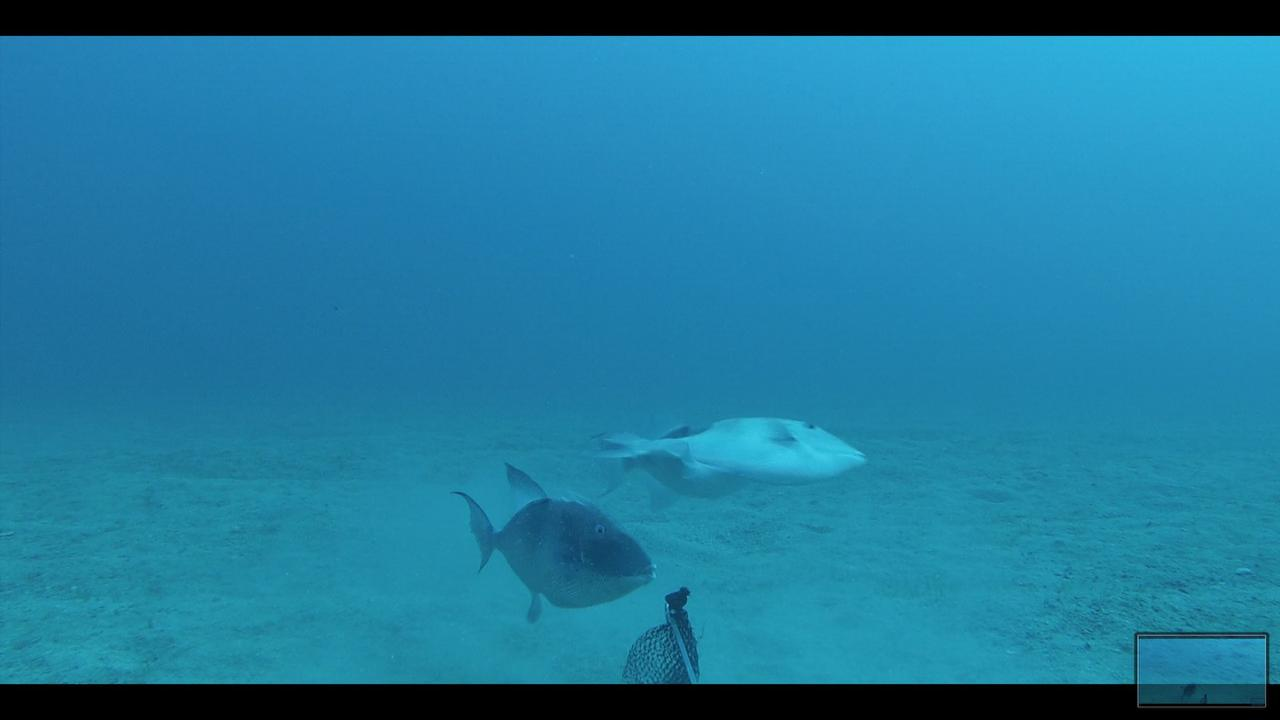balistes: (446, 460, 659, 623), (583, 411, 872, 485), (579, 418, 759, 511)
